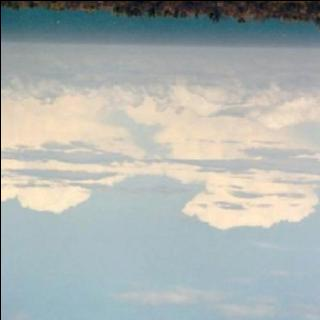Cumulonimbus: (0, 42, 320, 320)
